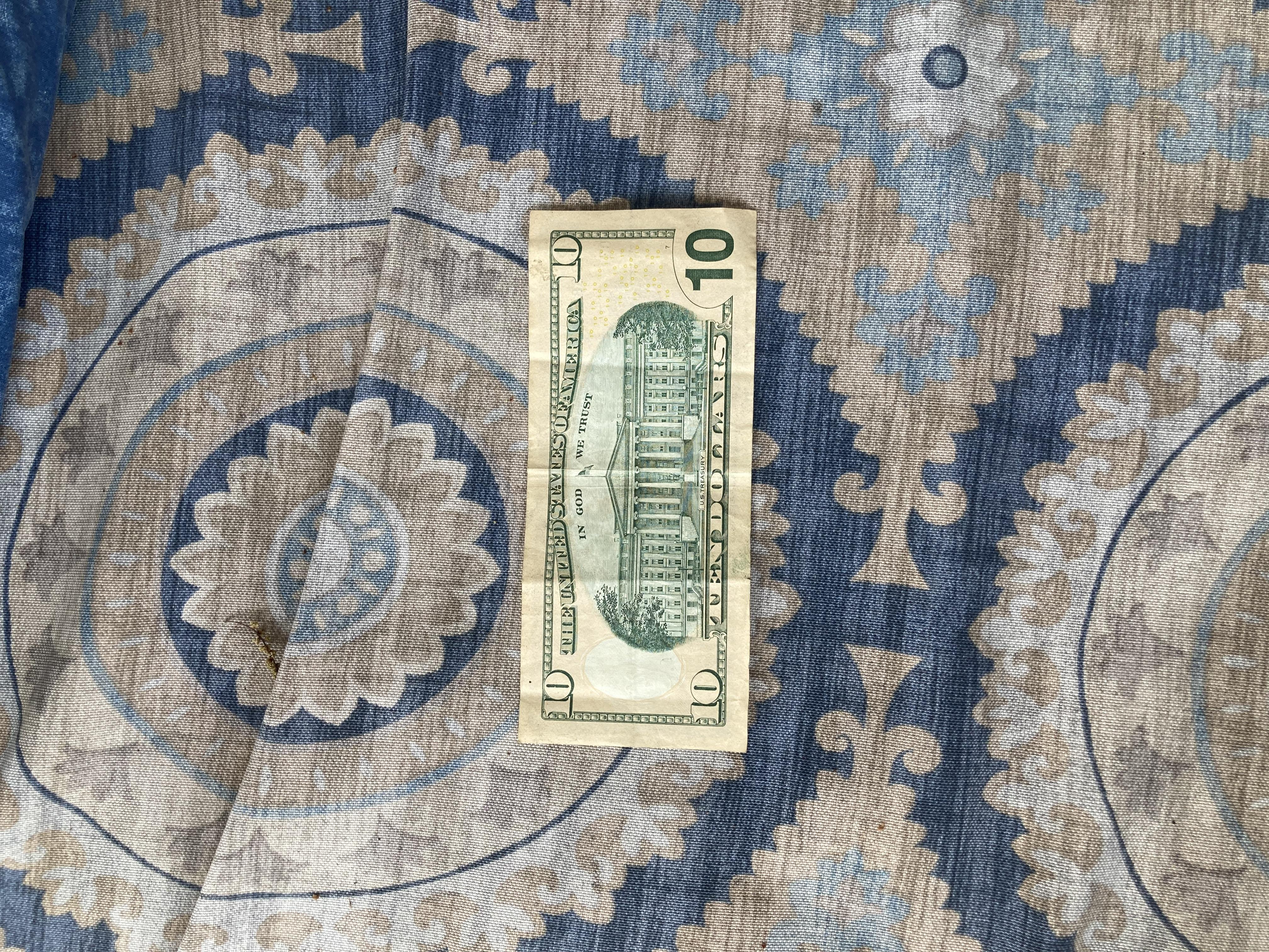ten-back: (272, 389, 992, 566)
